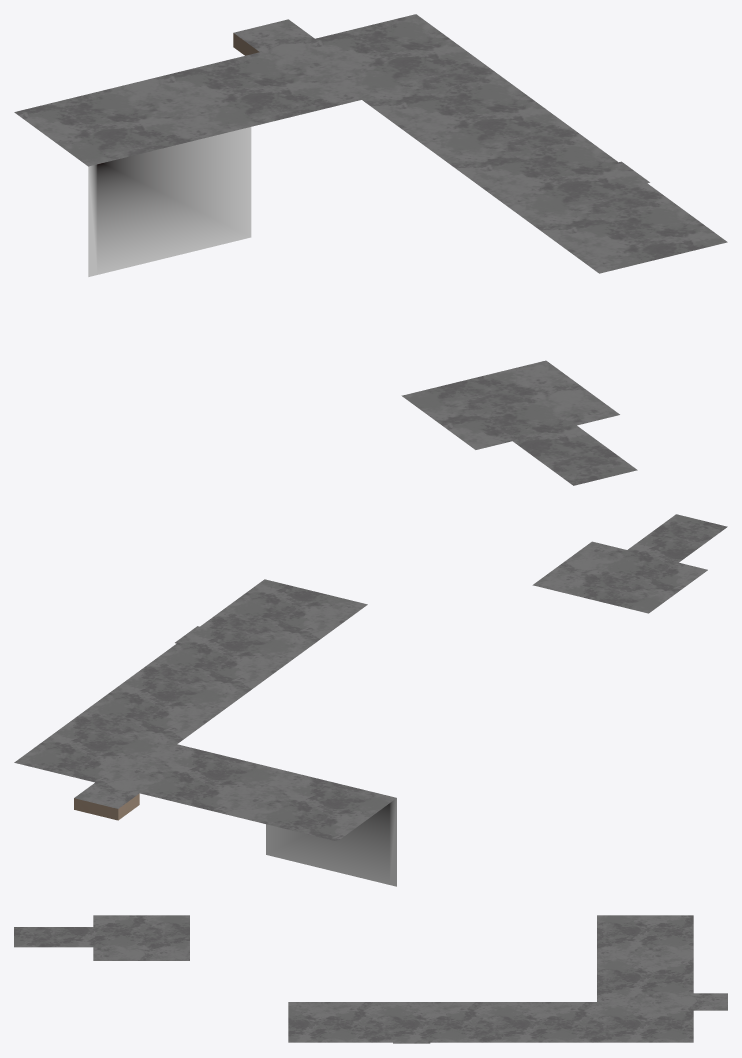
The model's file is RoughUpperFloor.fbx.
The picture shows the model from 3 angles, top to bottom: view 1: azimuth 30°, elevation 25°; view 2: azimuth 150°, elevation 25°; view 3: azimuth 270°, elevation 25°; orthographic projection. The views are drawn at different scales.
Visible parts, largest first — view 1: Rough Upper Floor; view 2: Rough Upper Floor; view 3: Rough Upper Floor.
Part boxes in pixels (left/top/right/bottom): Rough Upper Floor: left=14, top=14, right=727, bottom=485; Rough Upper Floor: left=14, top=514, right=727, bottom=886; Rough Upper Floor: left=14, top=915, right=727, bottom=1043.
Size of the model in its own units: 44.08 by 11.5 by 104.
